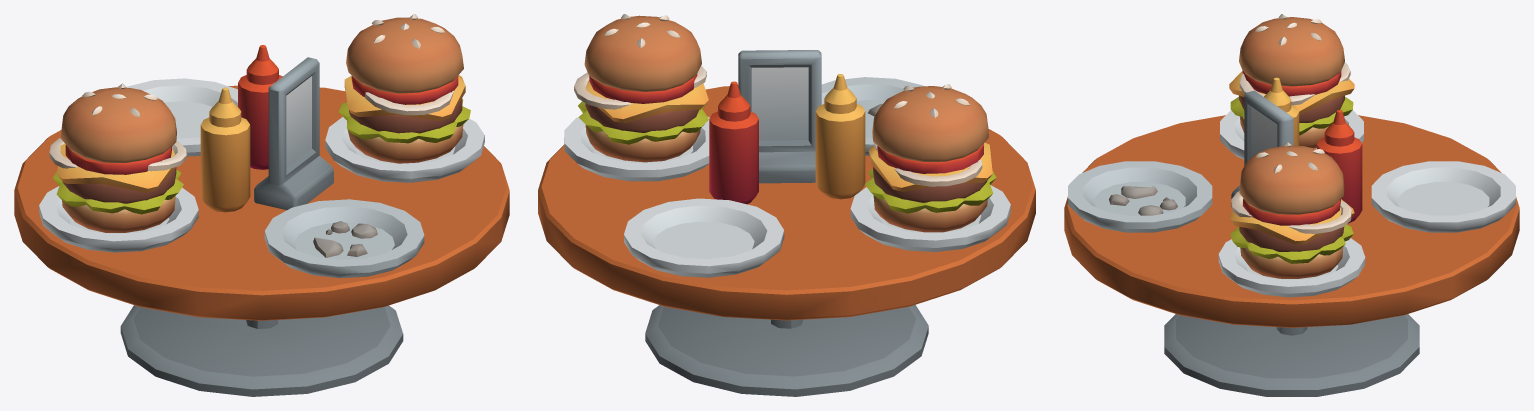
File: Table with food.glb
The picture shows the model from 3 angles, left to right: view 1: azimuth 30°, elevation 25°; view 2: azimuth 150°, elevation 25°; view 3: azimuth 270°, elevation 25°; orthographic projection. The views are drawn at different scales.
Parts seen in each view (by area): view 1: table_round_A_decorated; view 2: table_round_A_decorated; view 3: table_round_A_decorated.
Boxes of the visible parts, x1,y1,x2,y2 form: table_round_A_decorated: [14, 14, 509, 396]; table_round_A_decorated: [538, 14, 1035, 396]; table_round_A_decorated: [1064, 14, 1519, 396].
Bounding box in the file's own units: 3 × 1.86 × 3.
1 material, 1 textured.
